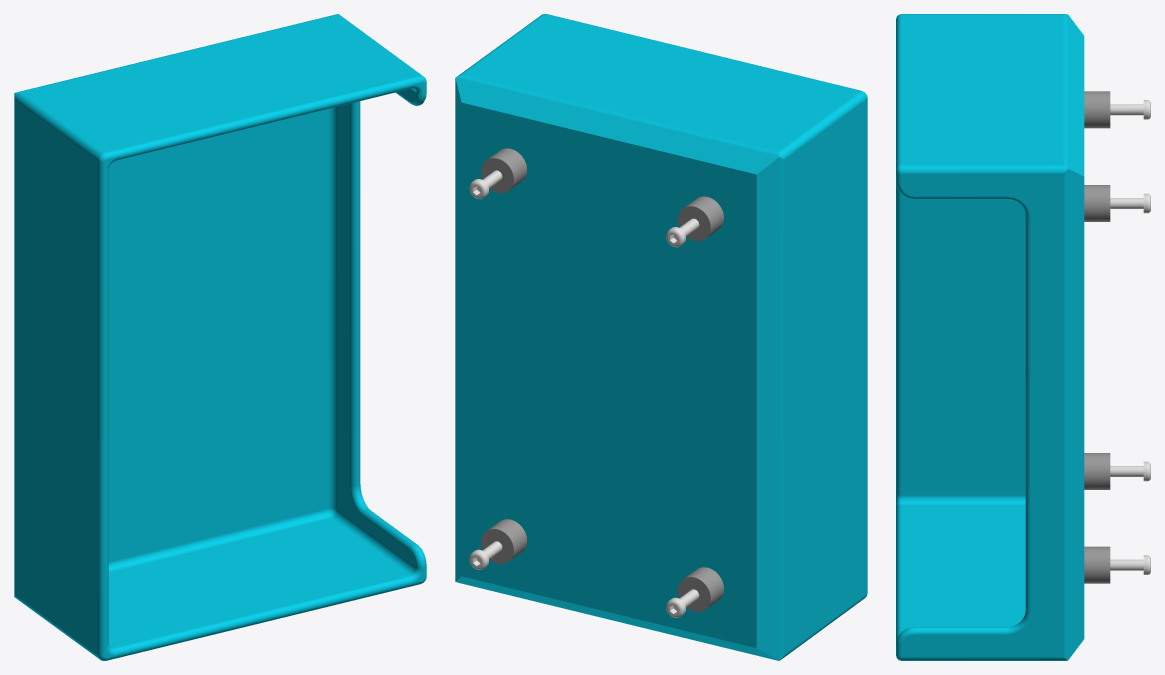
The model's file is canecaAzul.dae.
3 views of the same model, side by side, from view 1: azimuth 30°, elevation 25°; view 2: azimuth 150°, elevation 25°; view 3: azimuth 270°, elevation 25° (orthographic). The views are drawn at different scales.
Visible parts, largest first — view 1: ensambleCanecaTapaSlideAzul; view 2: ensambleCanecaTapaSlideAzul; view 3: ensambleCanecaTapaSlideAzul.
Part boxes in pixels (bbox=[...]): ensambleCanecaTapaSlideAzul: bbox=[14, 14, 426, 660]; ensambleCanecaTapaSlideAzul: bbox=[455, 14, 867, 660]; ensambleCanecaTapaSlideAzul: bbox=[896, 14, 1150, 660].
Bounding box in the file's own units: 100 × 69 × 148.
